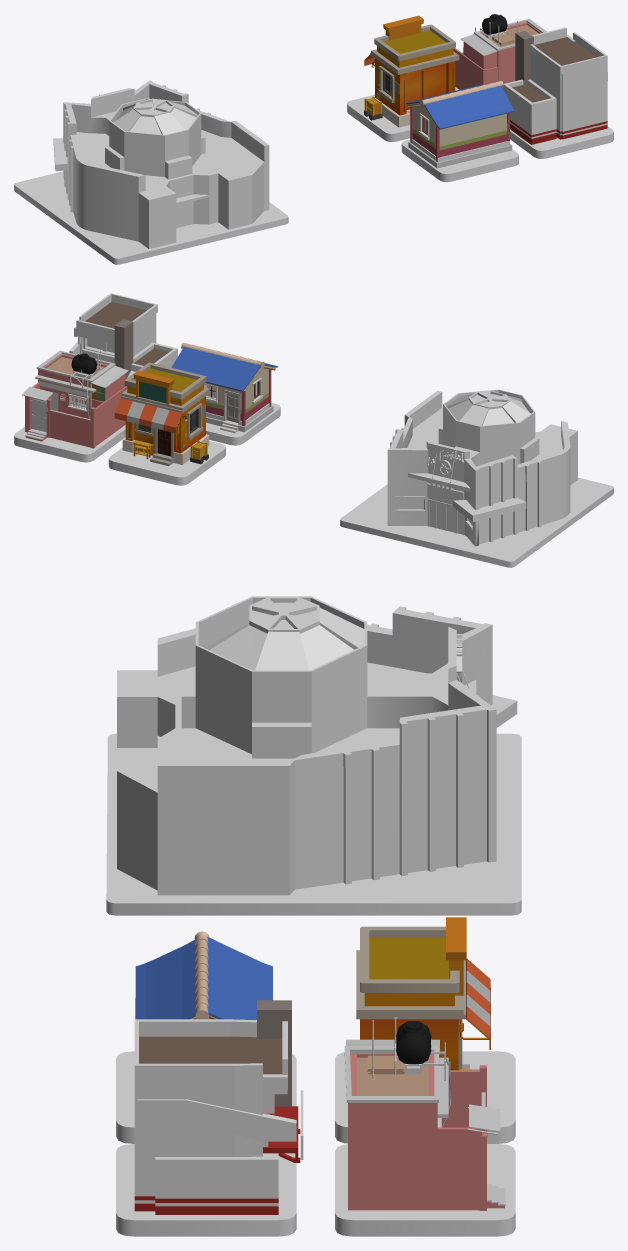
Rendered from la_trinidad_m.fbx.
3 renders of one model, top to bottom at view 1: azimuth 30°, elevation 25°; view 2: azimuth 150°, elevation 25°; view 3: azimuth 270°, elevation 25°, orthographic. The views are drawn at different scales.
Visible parts, largest first — view 1: la_trinidad_m; view 2: la_trinidad_m; view 3: la_trinidad_m.
Part boxes in pixels (x1,y1,x2,y2): la_trinidad_m: [14, 14, 613, 264]; la_trinidad_m: [14, 293, 613, 567]; la_trinidad_m: [106, 596, 521, 1236].
Bounding box in the file's own units: 3213 × 648 × 1149.
